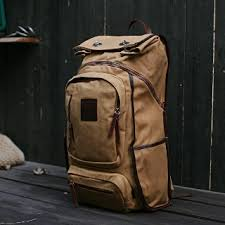backpack: (63, 18, 173, 213)
